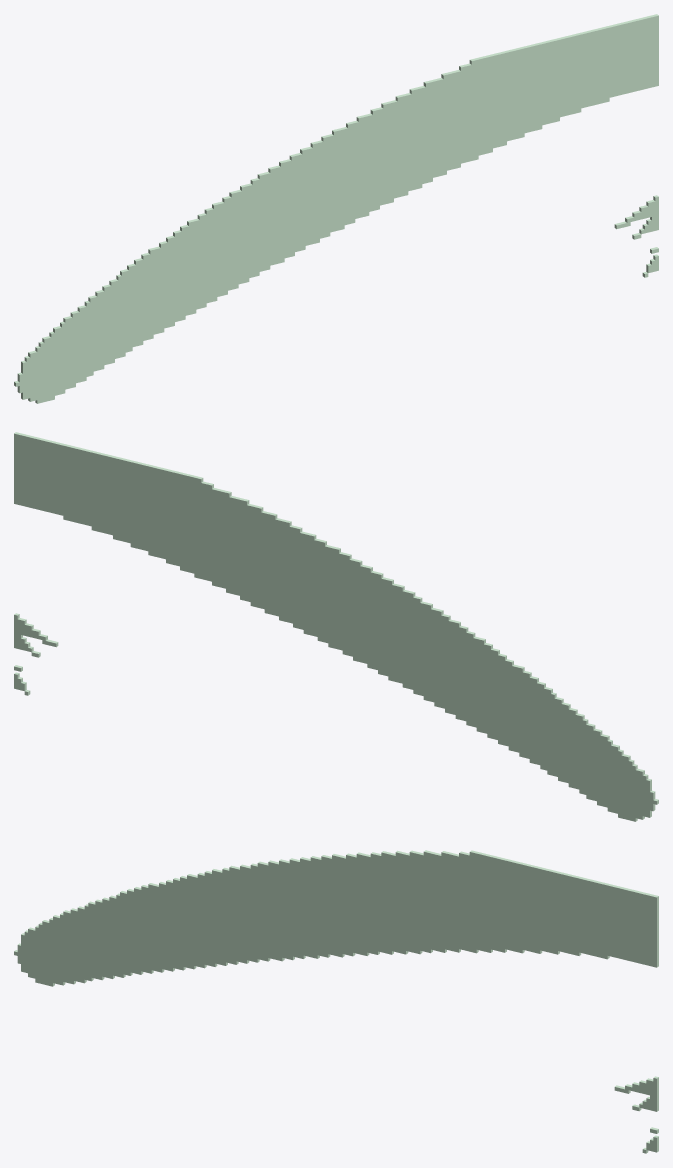
The model's file is Fight_003_2_06_fx.obj.
3 views of the same model, one above another, from view 1: azimuth 30°, elevation 25°; view 2: azimuth 150°, elevation 25°; view 3: azimuth 330°, elevation 25° (orthographic).
Bounding box in the file's own units: 18.2 × 7 × 0.1.
1 material, 1 textured.
